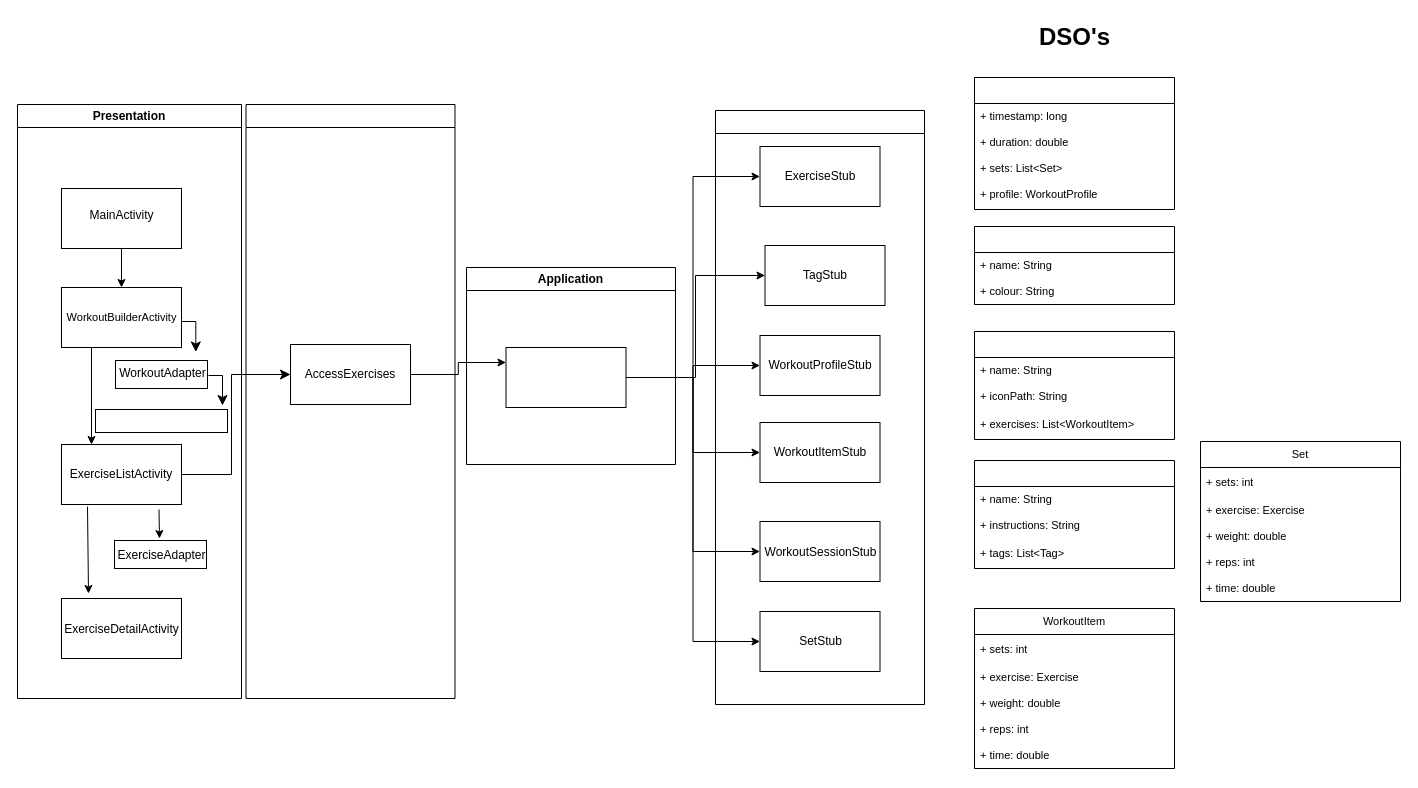
This 1418x788 diagram has some shape labels left out. The shapes that lost their labels are listed below. From the top down, each one's box as (x1, y1, x2, y2) in pixels, then its label:
(974, 76, 1174, 210): WorkoutSession
(974, 226, 1174, 304): Tag
(505, 346, 626, 408): Services
(974, 330, 1174, 440): WorkoutProfile
(94, 408, 228, 432): AddExerciseBottomSheetFragment
(245, 104, 455, 698): Logic
(714, 110, 924, 704): Persistence
(974, 460, 1174, 568): Exercise
